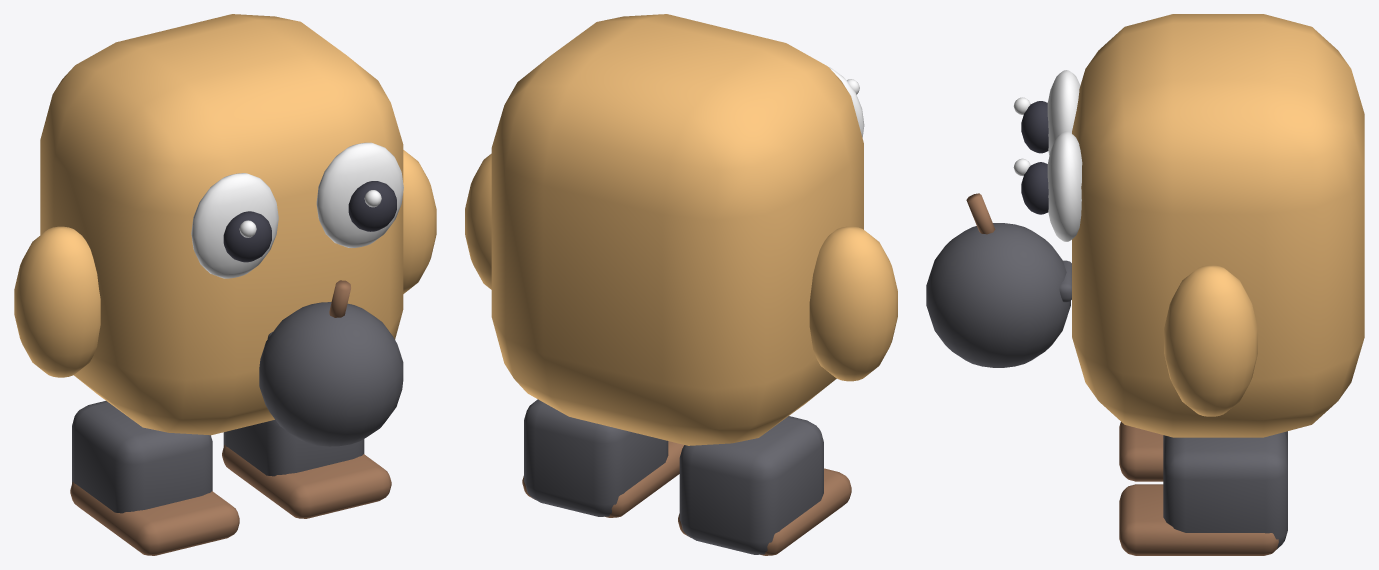
The model's file is pleb_bomber.glb.
The picture shows the model from 3 angles, left to right: view 1: azimuth 30°, elevation 25°; view 2: azimuth 150°, elevation 25°; view 3: azimuth 270°, elevation 25°; orthographic projection. The views are drawn at different scales.
Visible parts, largest first — view 1: pleb_bomber; view 2: pleb_bomber; view 3: pleb_bomber.
Part boxes in pixels (bbox=[...]): pleb_bomber: bbox=[14, 14, 436, 555]; pleb_bomber: bbox=[465, 14, 897, 555]; pleb_bomber: bbox=[926, 14, 1364, 555].
Size of the model in its own units: 1.29 by 1.35 by 1.2.
